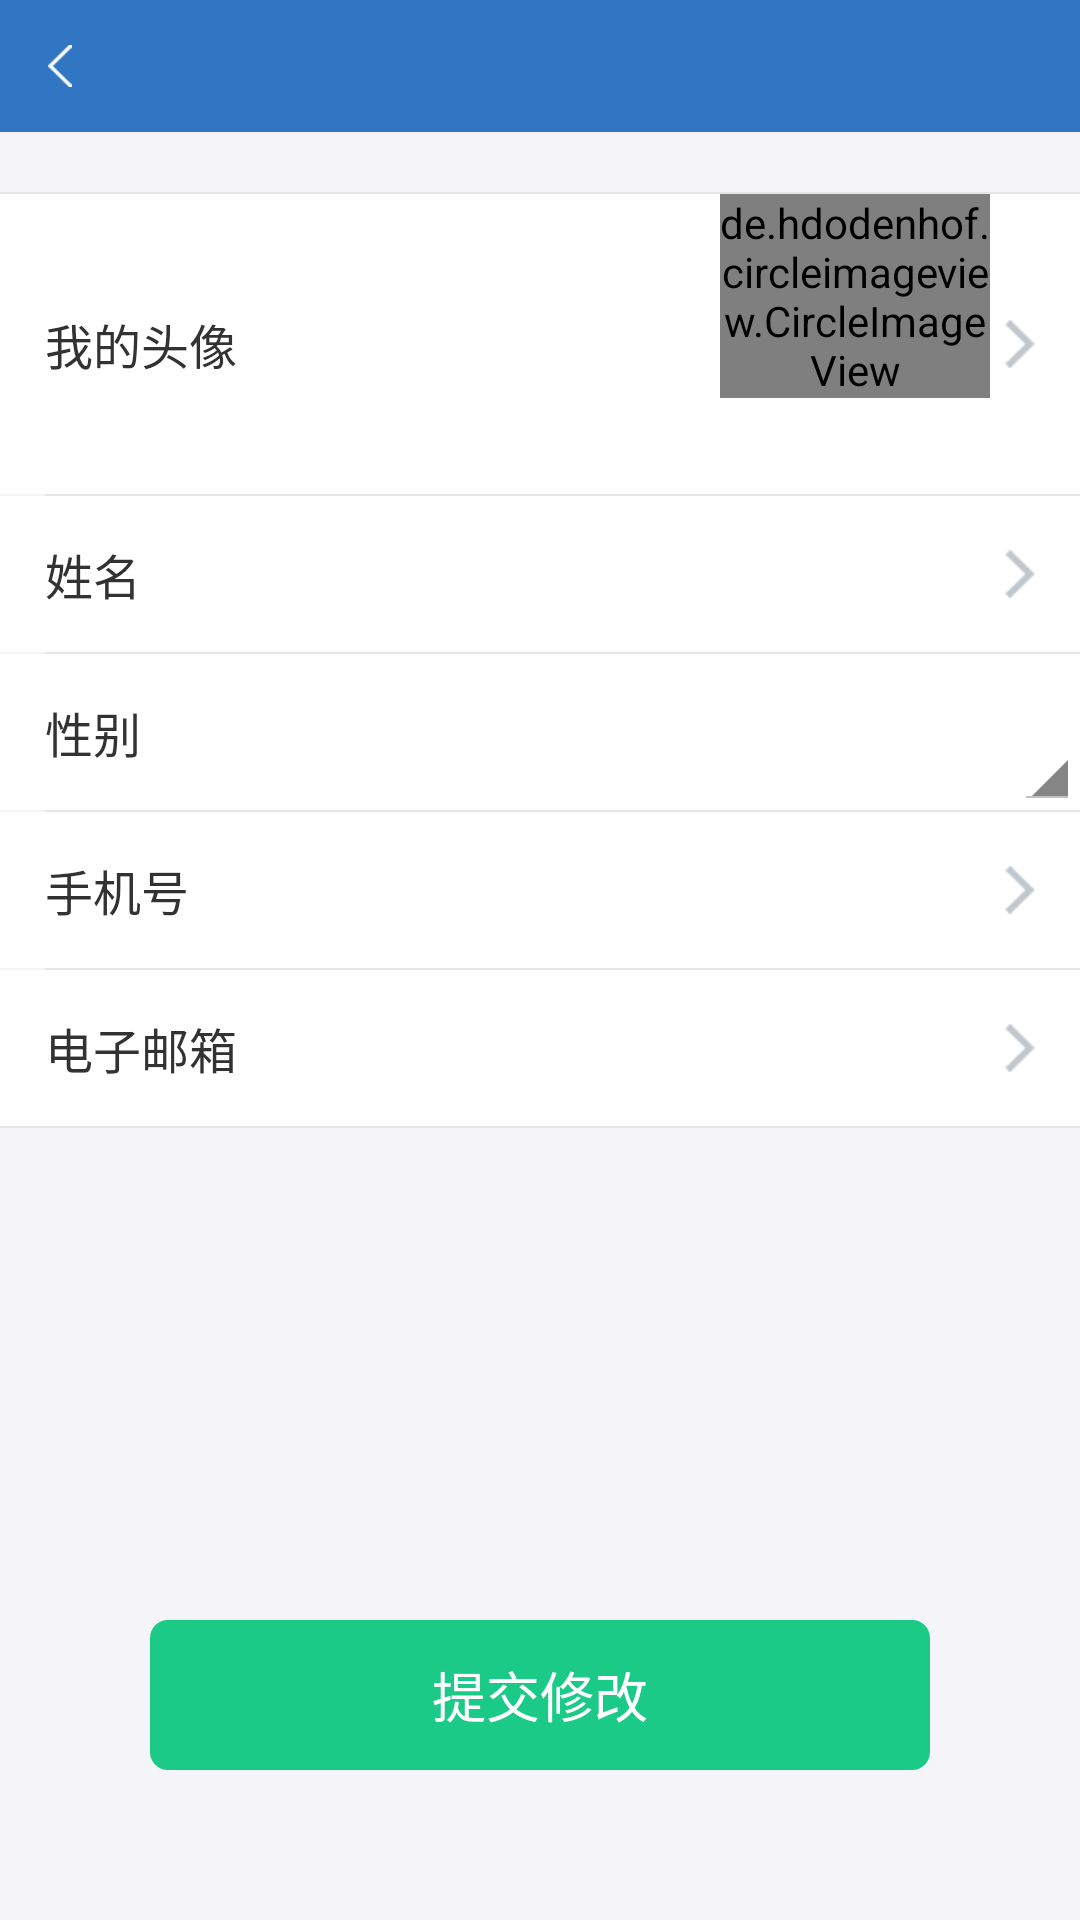

Icon click points for this 1080×1920 phone screenshot, format point (x, y):
back: point (60, 66)
